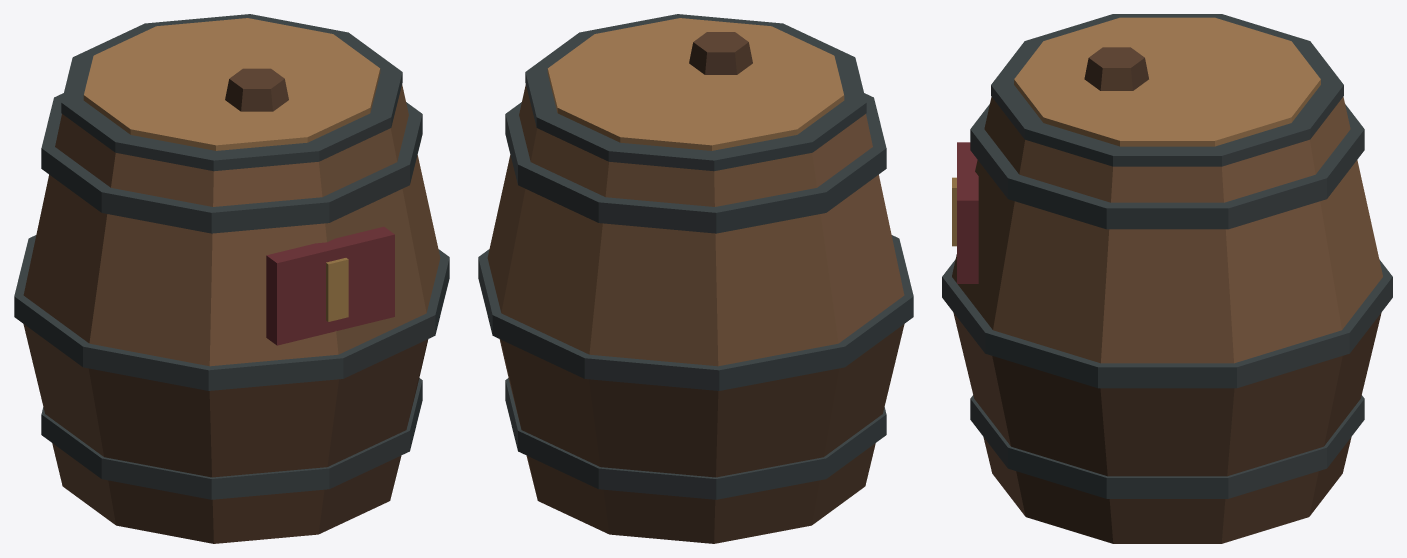
File: pitch-cask-sealed.glb
3 renders of one model, left to right at view 1: azimuth 30°, elevation 25°; view 2: azimuth 150°, elevation 25°; view 3: azimuth 270°, elevation 25°, orthographic.
Visible parts, largest first — view 1: Pitch cask · sealed; view 2: Pitch cask · sealed; view 3: Pitch cask · sealed.
Part boxes in pixels (x1,y1,x2,y2): Pitch cask · sealed: (14, 14, 449, 543); Pitch cask · sealed: (478, 14, 913, 543); Pitch cask · sealed: (942, 14, 1392, 543).
Bounding box in the file's own units: 0.6848 × 0.733 × 0.72.
